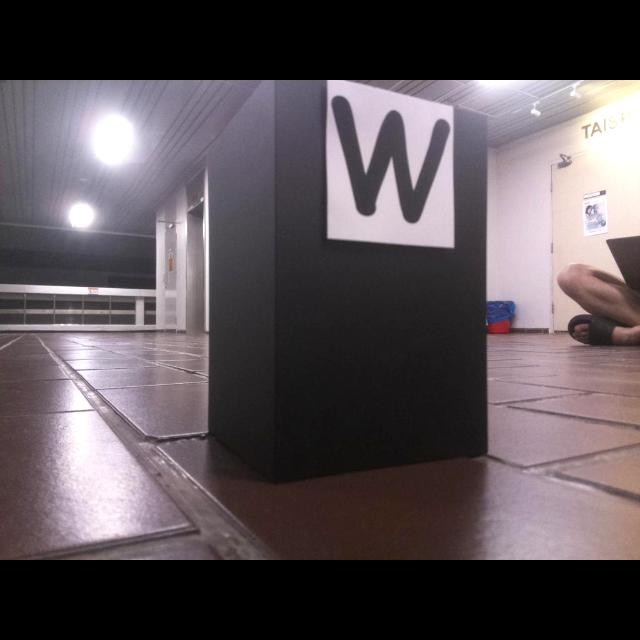W: (330, 93, 453, 226)
